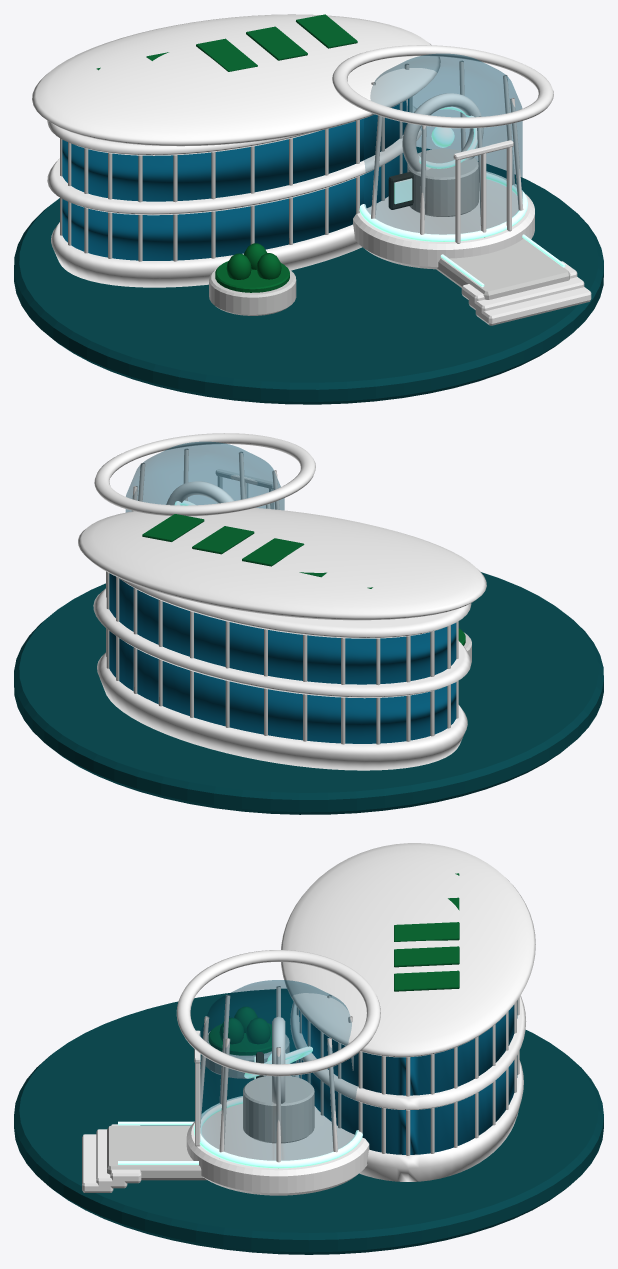
Rendered from laboratory.glb.
3 renders of one model, top to bottom at view 1: azimuth 30°, elevation 25°; view 2: azimuth 150°, elevation 25°; view 3: azimuth 270°, elevation 25°, orthographic.
Parts seen in each view (by area): view 1: body, pedestal; view 2: body, pedestal; view 3: body, pedestal.
Boxes of the visible parts, x1=… form: body: x1=32, y1=14, x2=591, y2=325; pedestal: x1=14, y1=147, x2=603, y2=404; body: x1=78, y1=433, x2=486, y2=770; pedestal: x1=14, y1=572, x2=603, y2=814; body: x1=82, y1=843, x2=535, y2=1195; pedestal: x1=14, y1=988, x2=603, y2=1254.
Bounding box in the file's own units: 4.4 × 1.62 × 4.4.
